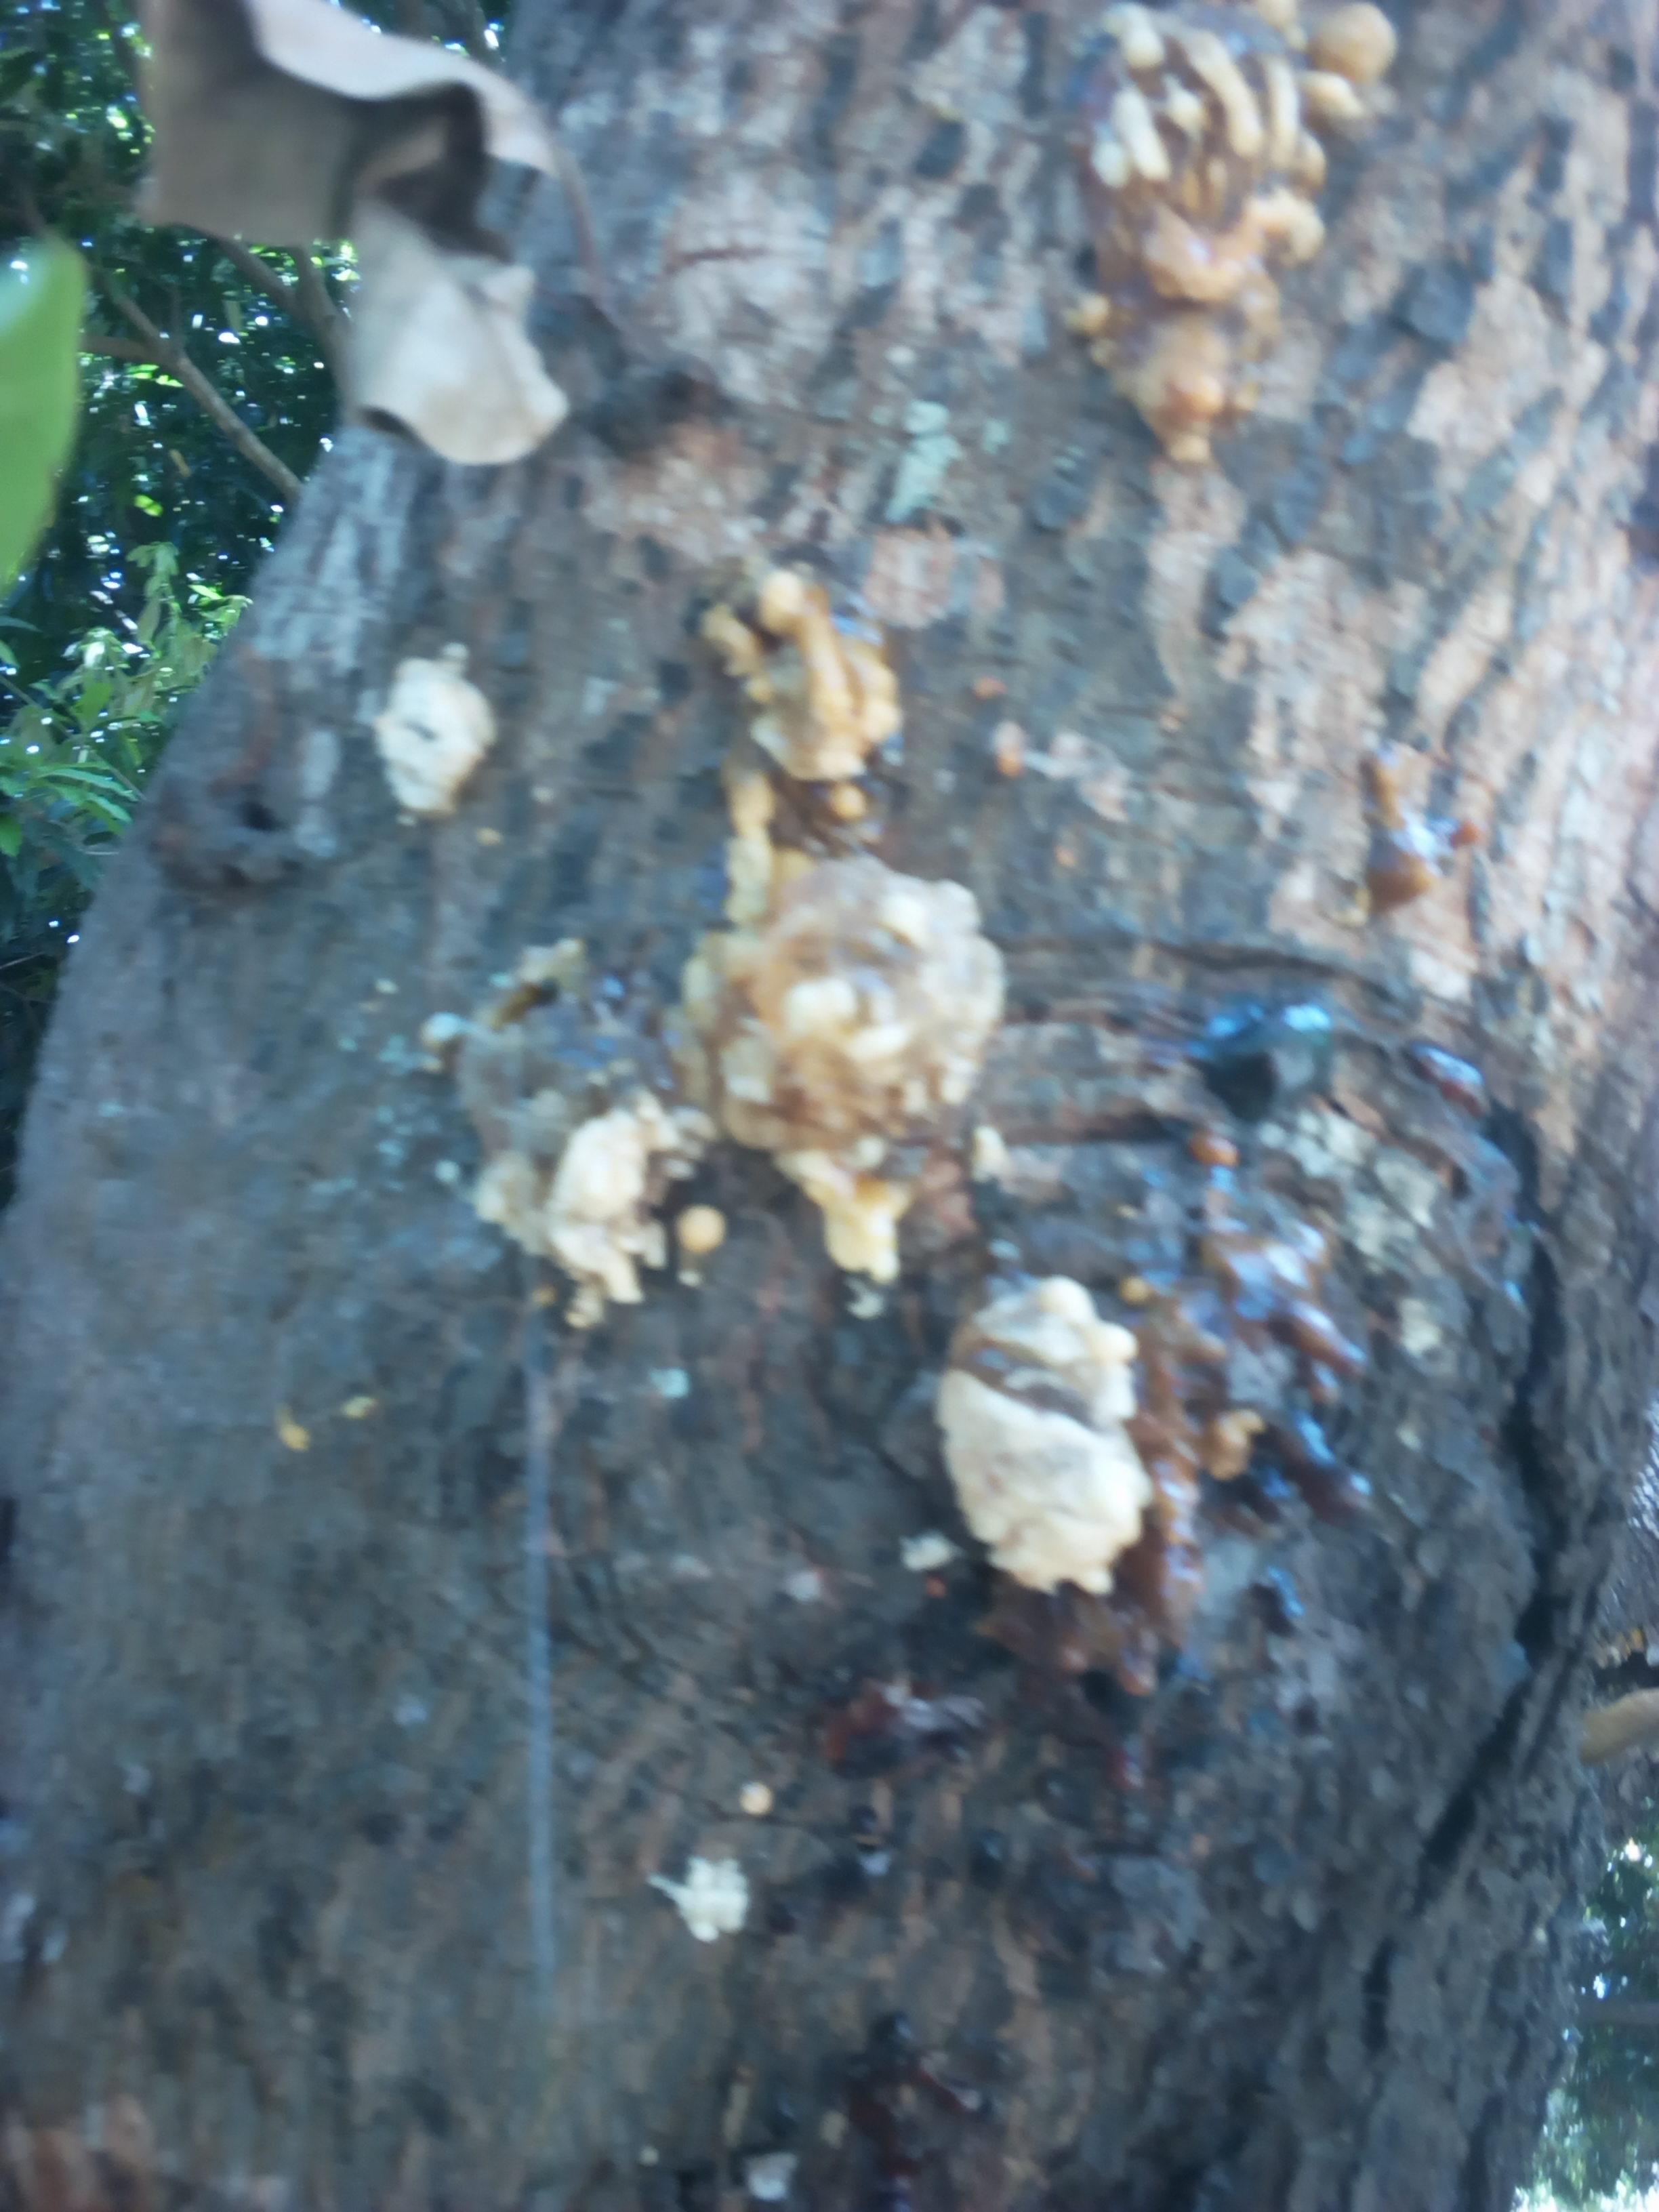Gommose: (406, 845, 1436, 1815), (1073, 12, 1351, 462)
